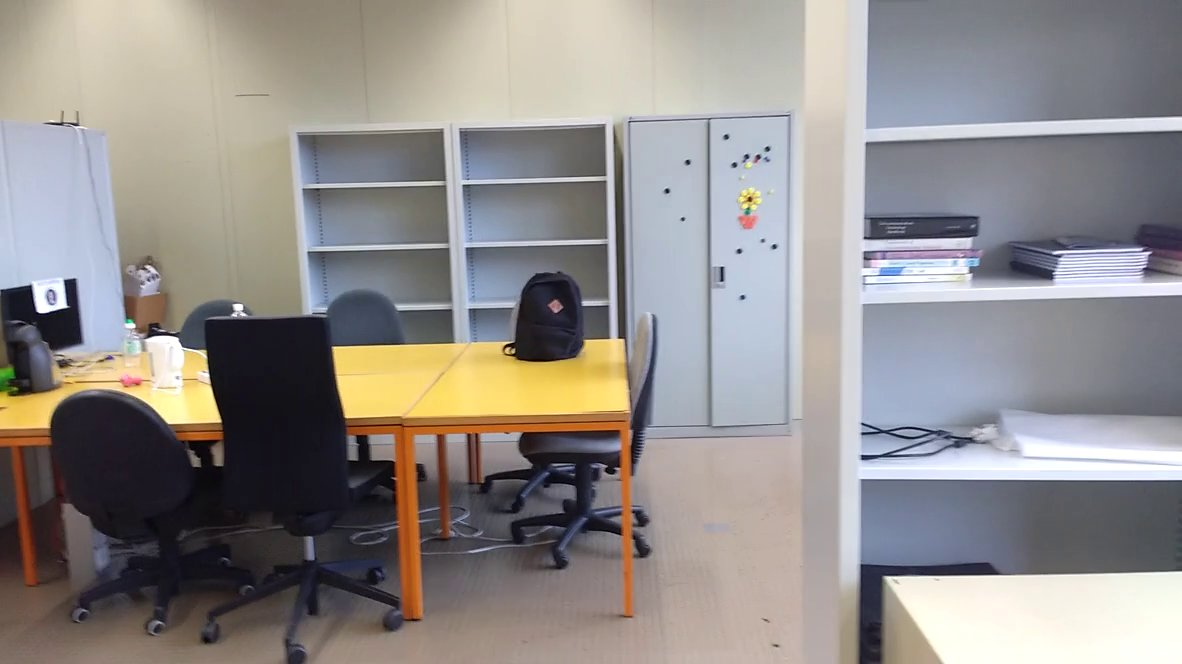bag: (501, 264, 590, 372)
chair: (202, 311, 411, 658), (45, 388, 251, 649), (518, 299, 669, 567), (314, 286, 419, 365)
